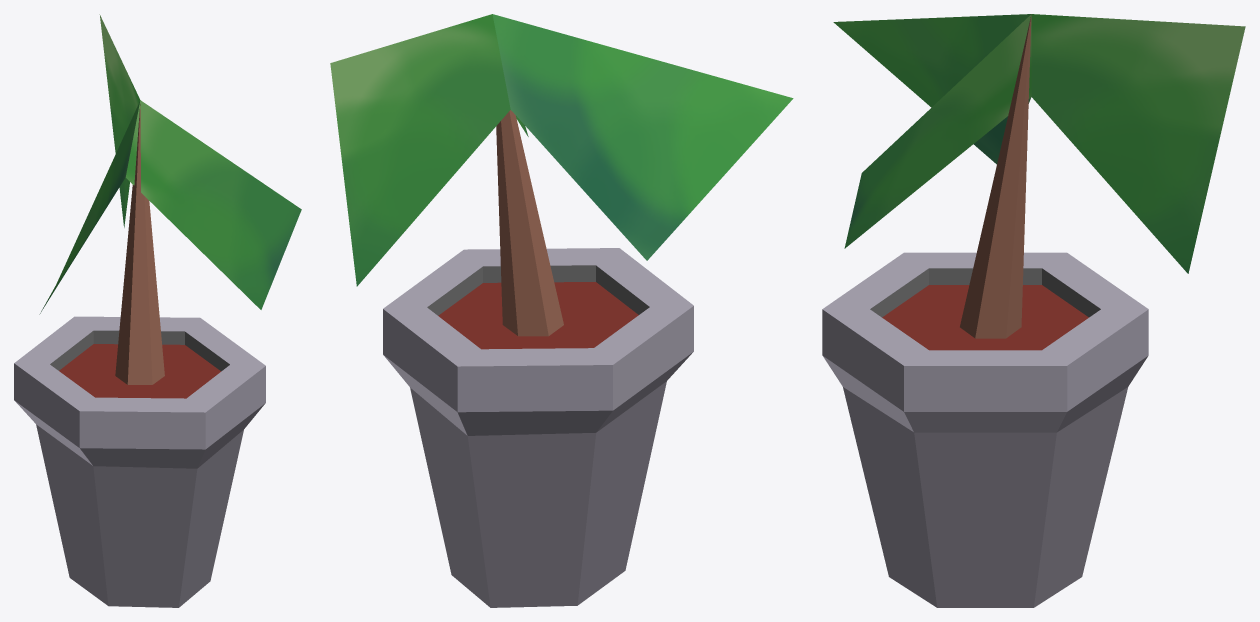
Rendered from plant2.dae.
The picture shows the model from 3 angles, left to right: view 1: azimuth 30°, elevation 25°; view 2: azimuth 150°, elevation 25°; view 3: azimuth 270°, elevation 25°; orthographic projection. The views are drawn at different scales.
Parts seen in each view (by area): view 1: Cylinder; view 2: Cylinder; view 3: Cylinder.
Part boxes in pixels (bbox=[...]): Cylinder: bbox=[14, 14, 301, 607]; Cylinder: bbox=[330, 14, 793, 607]; Cylinder: bbox=[822, 14, 1245, 607].
Bounding box in the file's own units: 1.4 × 1.6 × 2.46.
1 material, 1 textured.
